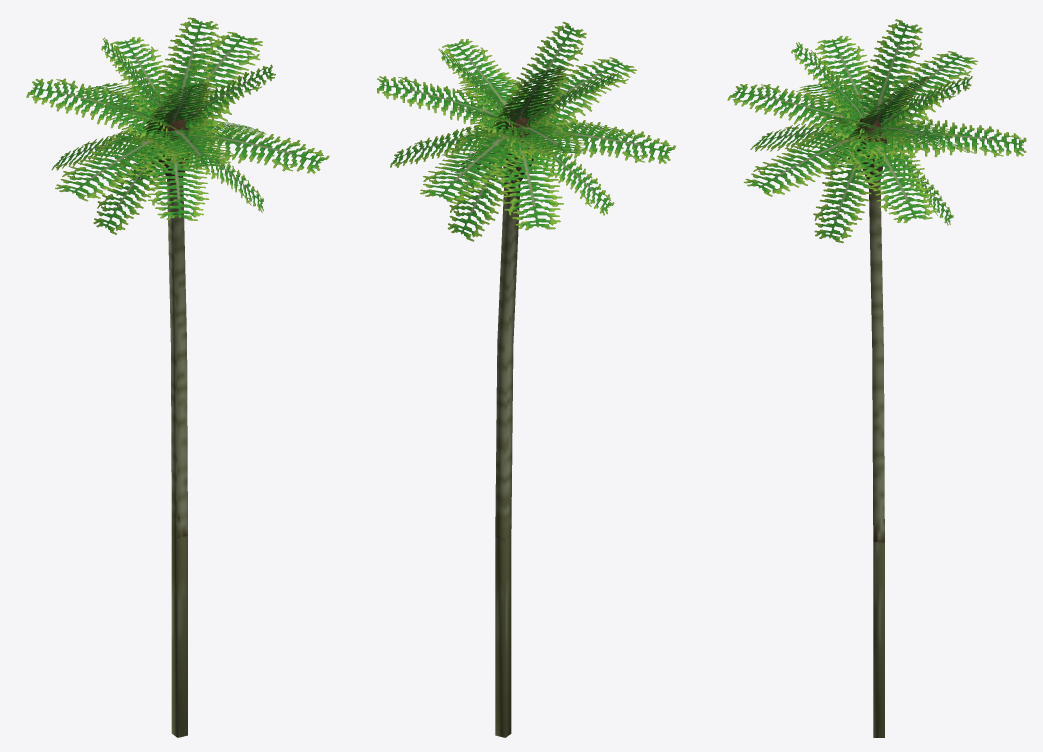
Rendered from palm_tree_1_6.dae.
3 views of the same model, side by side, from view 1: azimuth 30°, elevation 25°; view 2: azimuth 150°, elevation 25°; view 3: azimuth 270°, elevation 25° (orthographic).
Visible parts, largest first — view 1: Cube; view 2: Cube; view 3: Cube.
Boxes of the visible parts, x1,y1,x2,y2 form: Cube: (26, 17, 329, 737); Cube: (377, 21, 675, 737); Cube: (727, 19, 1026, 737).
Size of the model in its own units: 0.3431 by 0.3347 by 0.7976.
1 material, 1 textured.
